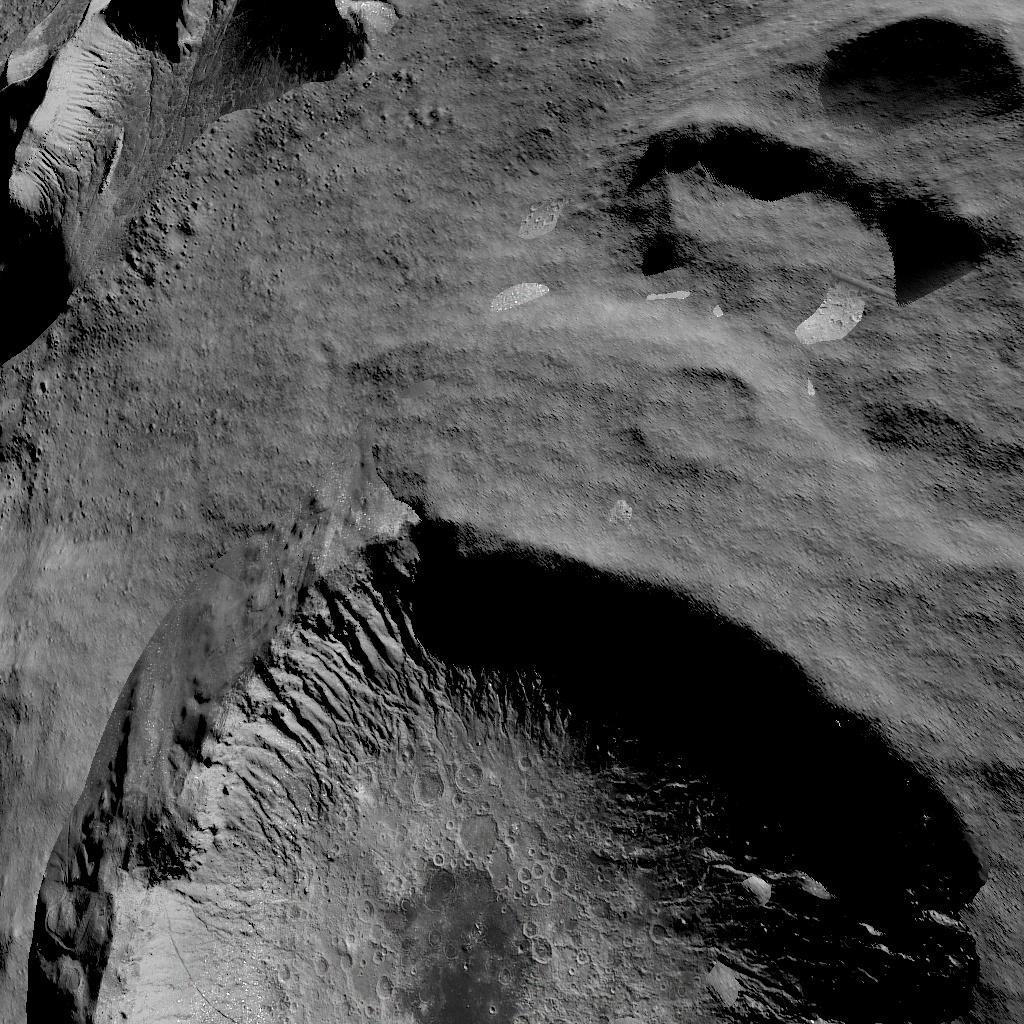Boulders: (3, 0, 394, 348)
Crater: (3, 504, 988, 1024), (630, 0, 1024, 290), (630, 351, 766, 486)
Plan surface: (418, 0, 622, 487)
